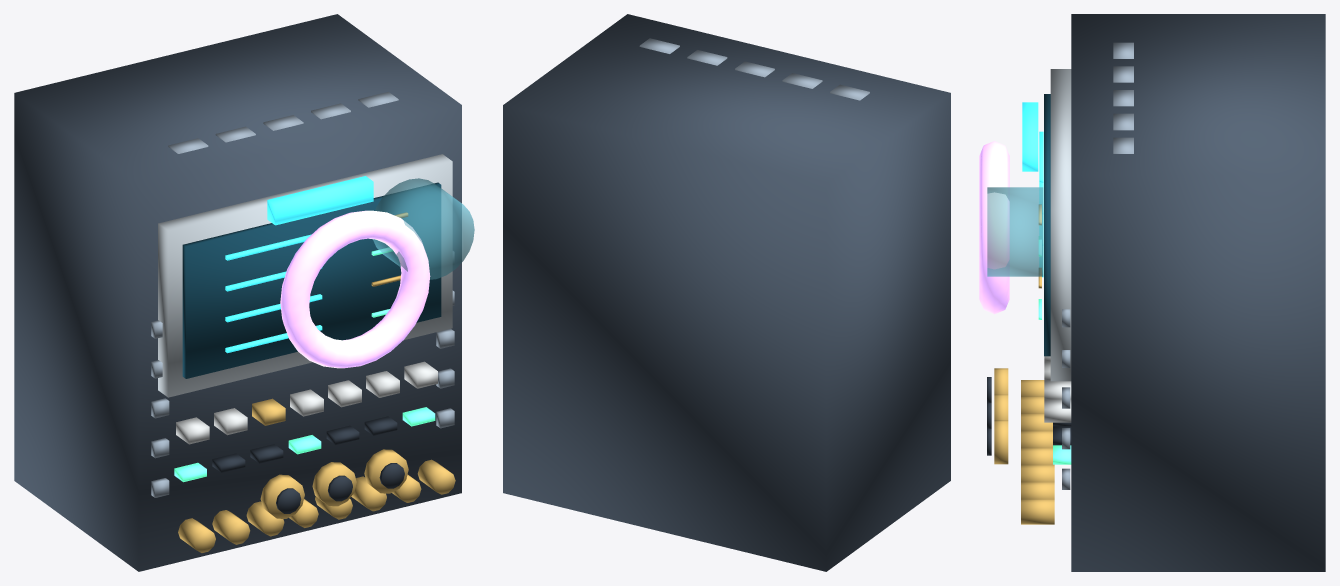
File: 22_L89_SpectralCalibrationSource.fbx
3 views of the same model, side by side, from view 1: azimuth 30°, elevation 25°; view 2: azimuth 150°, elevation 25°; view 3: azimuth 270°, elevation 25° (orthographic). The views are drawn at different scales.
Parts seen in each view (by area): view 1: L87_SpectralCalibrationSource_Part_0000, L87_SpectralCalibrationSource_Part_0002, L87_SpectralCalibrationSource_Part_0001, L87_SpectralCalibrationSource_Part_0011, L87_SpectralCalibrationSource_Part_0004, L87_SpectralCalibrationSource_Part_0009, L87_SpectralCalibrationSource_Part_0008, L87_SpectralCalibrationSource_Part_0006, L87_SpectralCalibrationSource_Part_0010, L87_SpectralCalibrationSource_Part_0007, L87_SpectralCalibrationSource_Part_0003, L87_SpectralCalibrationSource_Part_0005 (+3 smaller); view 2: L87_SpectralCalibrationSource_Part_0000, L87_SpectralCalibrationSource_Part_0008; view 3: L87_SpectralCalibrationSource_Part_0000, L87_SpectralCalibrationSource_Part_0001, L87_SpectralCalibrationSource_Part_0009, L87_SpectralCalibrationSource_Part_0011, L87_SpectralCalibrationSource_Part_0004, L87_SpectralCalibrationSource_Part_0008, L87_SpectralCalibrationSource_Part_0002, L87_SpectralCalibrationSource_Part_0006, L87_SpectralCalibrationSource_Part_0010, L87_SpectralCalibrationSource_Part_0016, L87_SpectralCalibrationSource_Part_0003, L87_SpectralCalibrationSource_Part_0005.
Boxes of the visible parts, x1,y1,x2,y2 form: L87_SpectralCalibrationSource_Part_0000: (14, 14, 461, 571); L87_SpectralCalibrationSource_Part_0002: (182, 182, 441, 378); L87_SpectralCalibrationSource_Part_0001: (158, 154, 452, 397); L87_SpectralCalibrationSource_Part_0011: (280, 210, 430, 368); L87_SpectralCalibrationSource_Part_0004: (178, 212, 455, 552); L87_SpectralCalibrationSource_Part_0009: (373, 178, 474, 279); L87_SpectralCalibrationSource_Part_0008: (151, 92, 454, 497); L87_SpectralCalibrationSource_Part_0006: (176, 361, 437, 444); L87_SpectralCalibrationSource_Part_0010: (267, 176, 373, 225); L87_SpectralCalibrationSource_Part_0007: (212, 416, 397, 472); L87_SpectralCalibrationSource_Part_0003: (225, 234, 322, 353); L87_SpectralCalibrationSource_Part_0005: (174, 247, 435, 482); L87_SpectralCalibrationSource_Part_0000: (503, 14, 950, 571); L87_SpectralCalibrationSource_Part_0008: (639, 38, 869, 100); L87_SpectralCalibrationSource_Part_0000: (1071, 14, 1325, 571); L87_SpectralCalibrationSource_Part_0001: (1050, 69, 1071, 381); L87_SpectralCalibrationSource_Part_0009: (987, 187, 1043, 276); L87_SpectralCalibrationSource_Part_0011: (979, 141, 1009, 314); L87_SpectralCalibrationSource_Part_0004: (1021, 204, 1054, 524); L87_SpectralCalibrationSource_Part_0008: (1062, 42, 1133, 489); L87_SpectralCalibrationSource_Part_0002: (1044, 94, 1050, 356); L87_SpectralCalibrationSource_Part_0006: (1044, 356, 1071, 422); L87_SpectralCalibrationSource_Part_0010: (1022, 102, 1038, 171); L87_SpectralCalibrationSource_Part_0016: (994, 420, 1008, 464); L87_SpectralCalibrationSource_Part_0003: (1039, 131, 1043, 277); L87_SpectralCalibrationSource_Part_0005: (1038, 236, 1071, 464).
Bounding box in the file's own units: 1.12 × 1.29 × 1.02.
